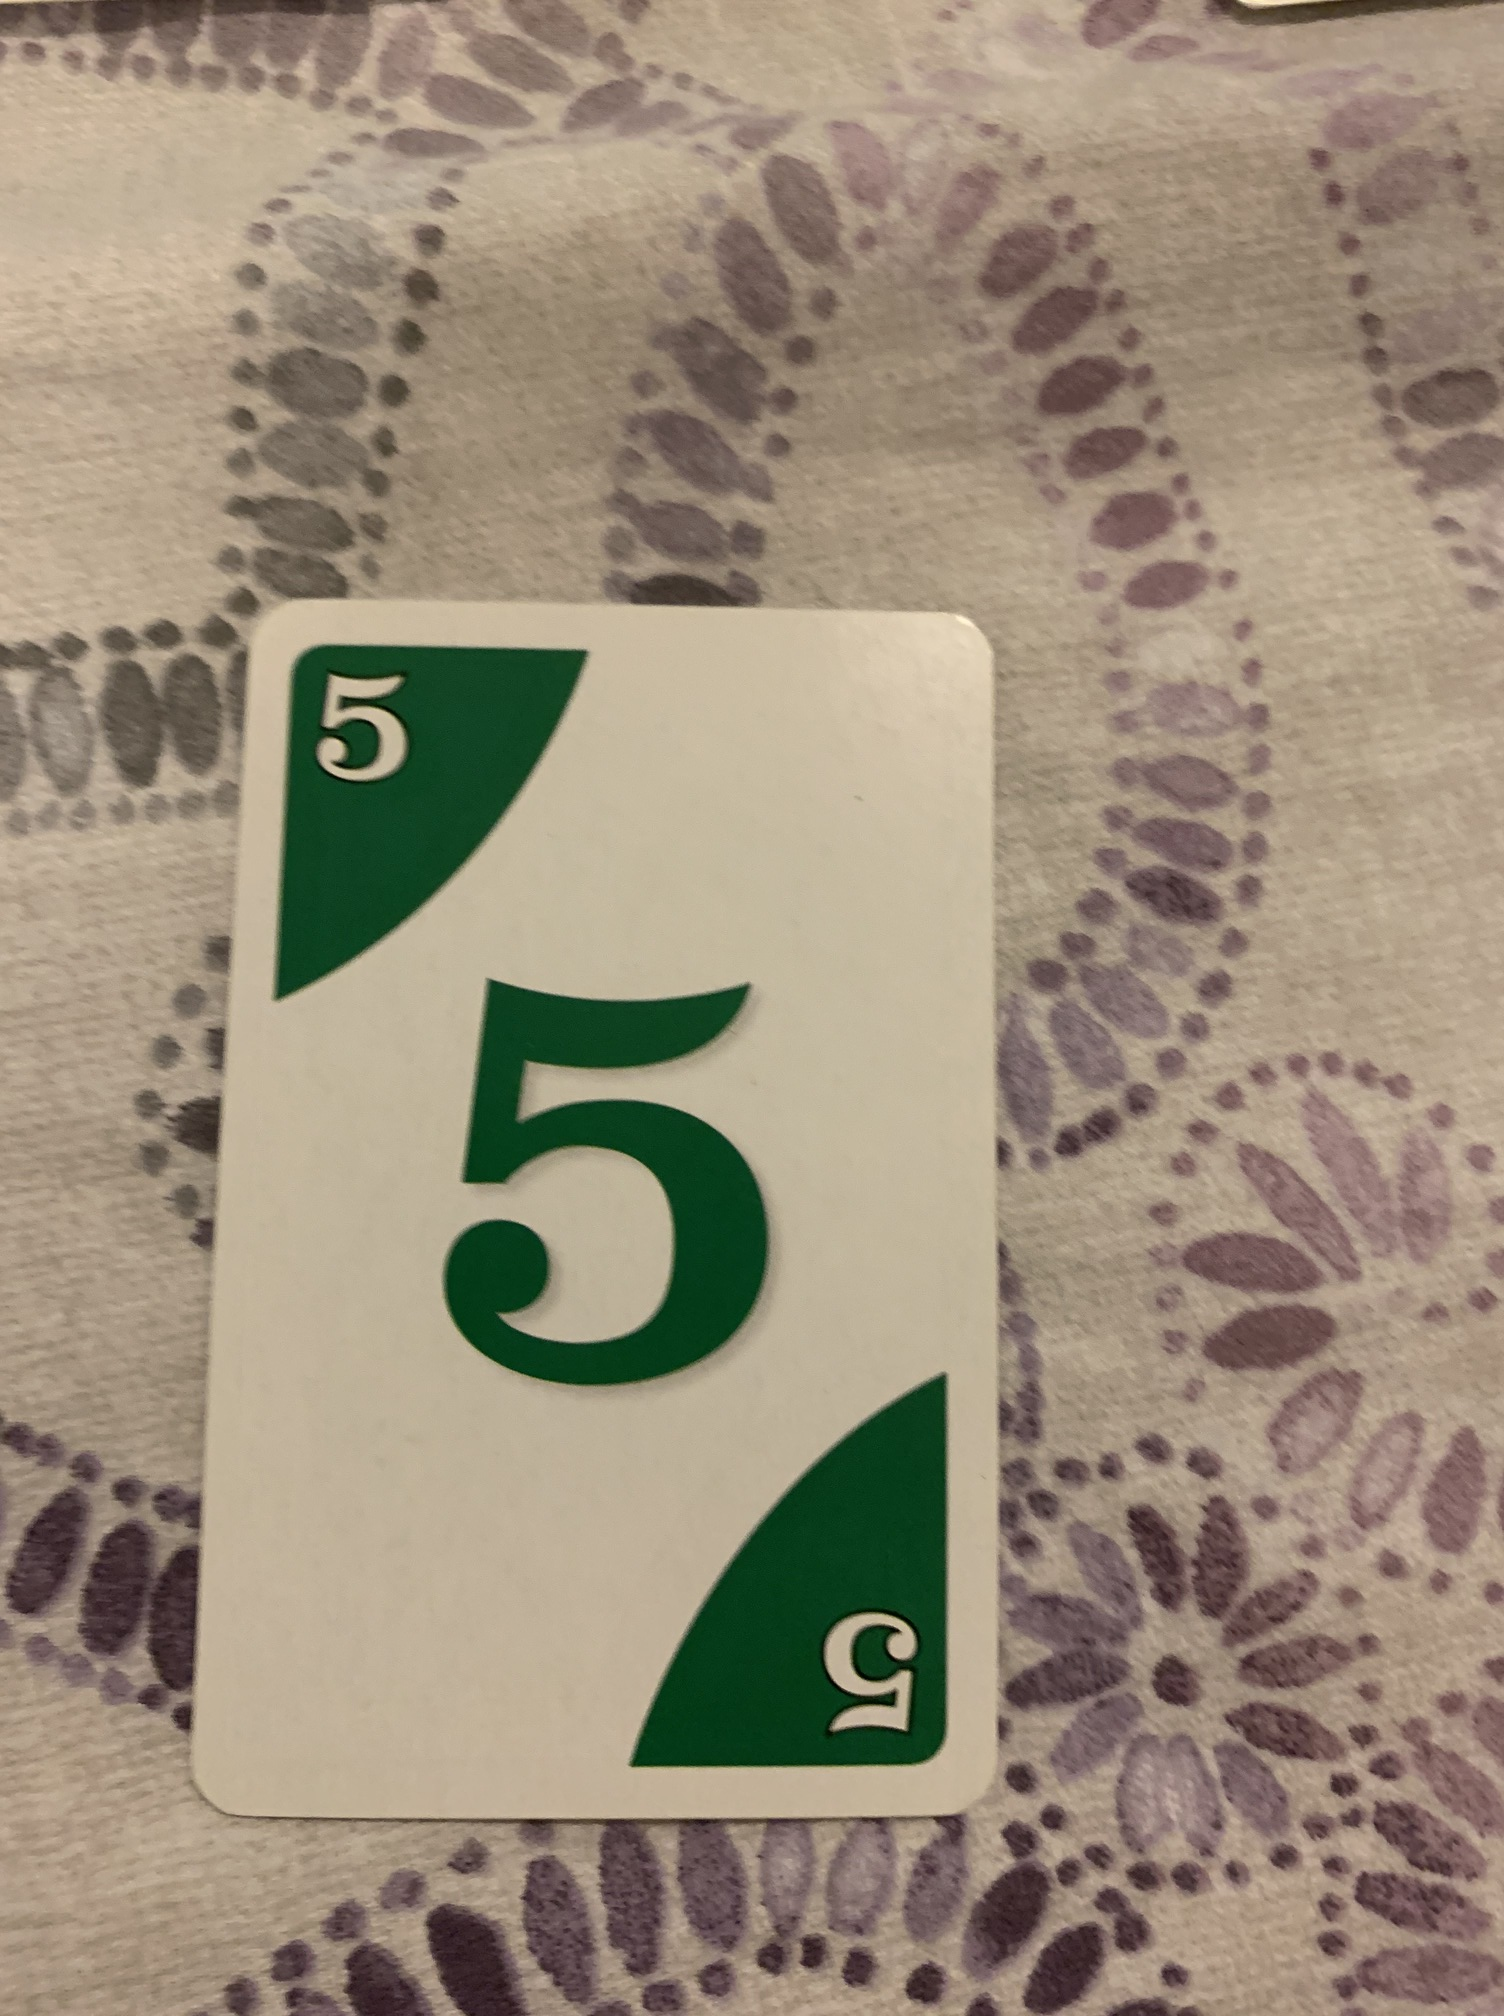five: (177, 588, 1019, 1820)
